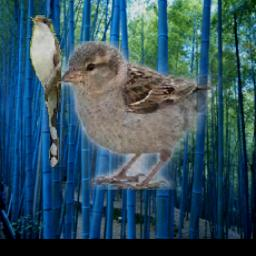Cuckoo: (30, 15, 62, 167)
Sparrow: (61, 42, 254, 191)
